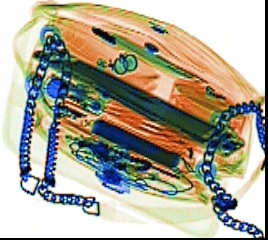powerbank: (54, 99, 195, 173)
